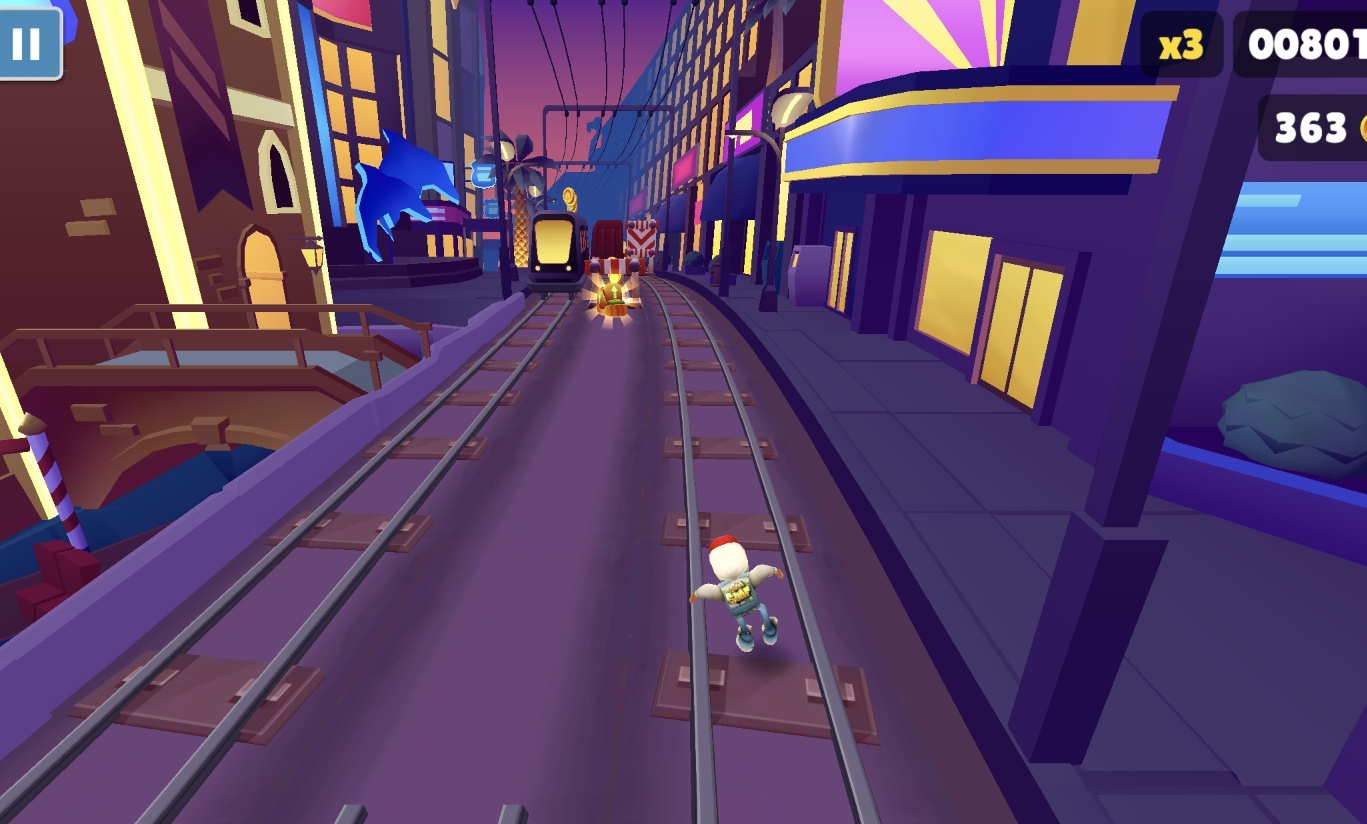ground_barrier: (587, 257, 641, 310)
overhead_barrier: (624, 219, 661, 280)
train: (525, 211, 589, 295), (591, 220, 624, 261)
